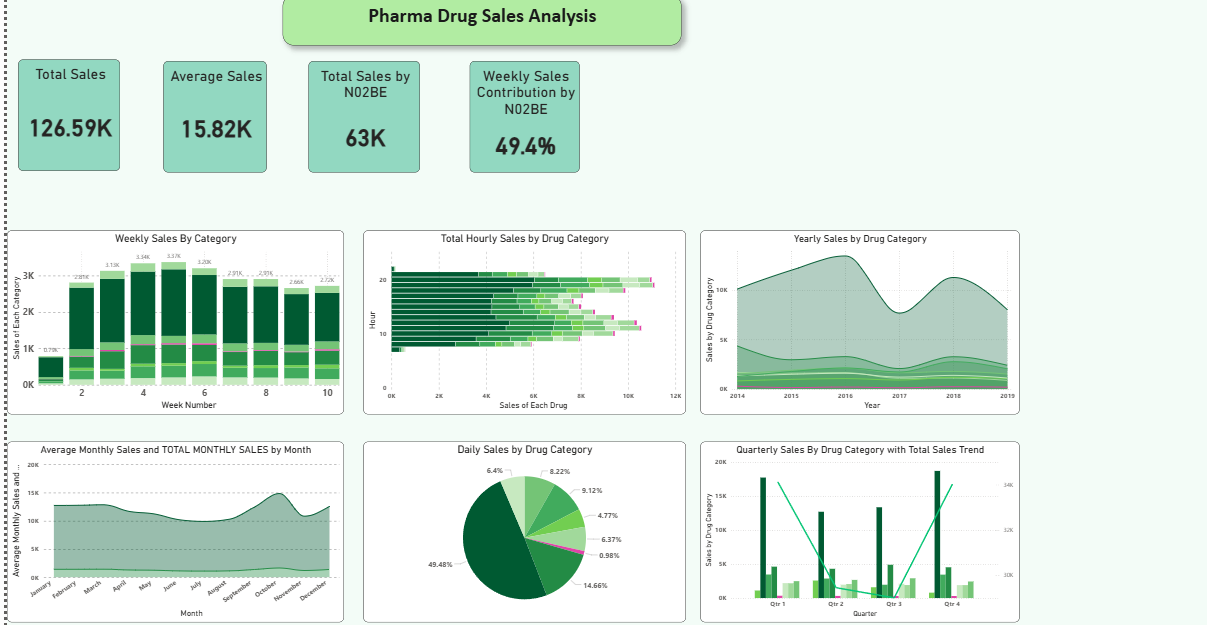

This screenshot's page, from the dashboard's own definition file:
{"tool":"powerbi","page":{"name":"Sales Overview","canvas":[2500,1500],"ordinal":0},"visuals":[{"type":"textbox","title":"Pharma Drug Sales Analysis","box":[570,0,824,104],"z":0},{"type":"columnChart","title":"Weekly Sales By Category","fields":{"Y":["Sum(sales weekly.M01AE)","Sum(sales weekly.R03)","Sum(sales weekly.R06)","Sum(sales weekly.N05B)","Sum(sales weekly.N05C)","Sum(sales weekly.M01AB)","Sum(sales weekly.N02BE)","Sum(sales weekly.N02BA)"],"Category":["sales weekly.Week Num"]},"box":[0,486.7,696.7,380],"z":1000},{"type":"stackedAreaChart","fields":{"Category":["sales monthly.Date.Variation.Date Hierarchy.Month"],"Y":["sales monthly.Average Monthly Sales","sales monthly.TOTAL MONTHLY SALES"]},"box":[0,923.3,696.7,373.3],"z":2000},{"type":"barChart","title":"Total Hourly Sales by Drug Category","fields":{"Category":["sales hourly.Hour"],"Y":["Sum(sales hourly.N02BE)","Sum(sales hourly.N05B)","Sum(sales hourly.R03)","Sum(sales hourly.R06)","Sum(sales hourly.M01AB)","Sum(sales hourly.M01AE)","Sum(sales hourly.N02BA)","Sum(sales hourly.N05C)"]},"box":[736.7,486.7,666.7,380],"z":3000},{"type":"pieChart","title":"Daily Sales by Drug Category","fields":{"Y":["Sum(sales daily.M01AB)","Sum(sales daily.R03)","Sum(sales daily.R06)","Sum(sales daily.N02BA)","Sum(sales daily.N05C)","Sum(sales daily.N05B)","Sum(sales daily.N02BE)","Sum(sales daily.M01AE)"]},"box":[736.7,923.3,666.7,373.3],"z":4000},{"type":"areaChart","title":"Yearly Sales by Drug Category","fields":{"Category":["sales monthly.Date.Variation.Date Hierarchy.Year"],"Y":["Sum(sales monthly.N05C)","Sum(sales monthly.N02BA)","Sum(sales monthly.R06)","Sum(sales monthly.M01AB)","Sum(sales monthly.M01AE)","Sum(sales monthly.R03)","Sum(sales monthly.N02BE)","Sum(sales monthly.N05B)"]},"box":[1433.3,486.7,660,380],"z":5000},{"type":"lineClusteredColumnComboChart","title":"Quarterly Sales By Drug Category with Total Sales Trend","fields":{"Category":["sales monthly.Date.Variation.Date Hierarchy.Quarter"],"Y":["Sum(sales monthly.R06)","Sum(sales monthly.N02BE)","Sum(sales monthly.R03)","Sum(sales monthly.N05B)","Sum(sales monthly.N05C)","Sum(sales monthly.M01AE)","Sum(sales monthly.N02BA)","Sum(sales monthly.M01AB)"],"Y2":["sales monthly.TOTAL MONTHLY SALES"]},"box":[1433.3,923.3,660,373.3],"z":6000},{"type":"card","title":"Total Sales","fields":{"Values":["sales monthly.TOTAL MONTHLY SALES"]},"box":[23.3,133.3,210,230],"z":7000},{"type":"card","title":"Average Sales","fields":{"Values":["sales monthly.Average Monthly Sales"]},"box":[323.3,136.7,213.3,230],"z":8000},{"type":"card","title":"Weekly Sales Contribution by N02BE","fields":{"Values":["sales weekly.NEW N02BE CONTRIBUTION"]},"box":[956.7,136.7,226.7,230],"z":9000},{"type":"card","title":"Total Sales by N02BE","fields":{"Values":["Sum(sales hourly.N02BE)"]},"box":[623.3,136.7,230,230],"z":10000}]}

Visuals, with their boxes on the page's 2500x1500 design canvas (x1, y1, x2, y2). These are canvas units, not pixel positions in the 1207x625 screenshot, which may show the page scaled, cropped or inside an application window:
"Pharma Drug Sales Analysis" textbox: l=570, t=0, r=1394, b=104
"Weekly Sales By Category" columnChart: l=0, t=487, r=697, b=867
stackedAreaChart - sales monthly.Date.Variation.Date Hierarchy.Month x sales monthly.Average Monthly Sales: l=0, t=923, r=697, b=1297
"Total Hourly Sales by Drug Category" barChart: l=737, t=487, r=1403, b=867
"Daily Sales by Drug Category" pieChart: l=737, t=923, r=1403, b=1297
"Yearly Sales by Drug Category" areaChart: l=1433, t=487, r=2093, b=867
"Quarterly Sales By Drug Category with Total Sales Trend" lineClusteredColumnComboChart: l=1433, t=923, r=2093, b=1297
"Total Sales" card: l=23, t=133, r=233, b=363
"Average Sales" card: l=323, t=137, r=537, b=367
"Weekly Sales Contribution by N02BE" card: l=957, t=137, r=1183, b=367
"Total Sales by N02BE" card: l=623, t=137, r=853, b=367
